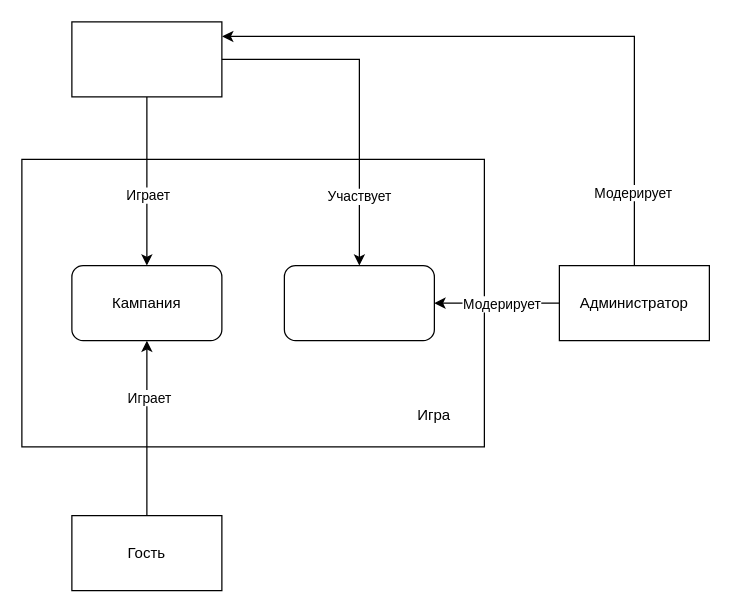
Image size: 731x613. Some labels were removed from this diagram. Here are the shapes that lost their labels. From the top down, the centre of each, then its label:
At (146,59): "Игрок".
At (358,302): "Онлайн Игра".
